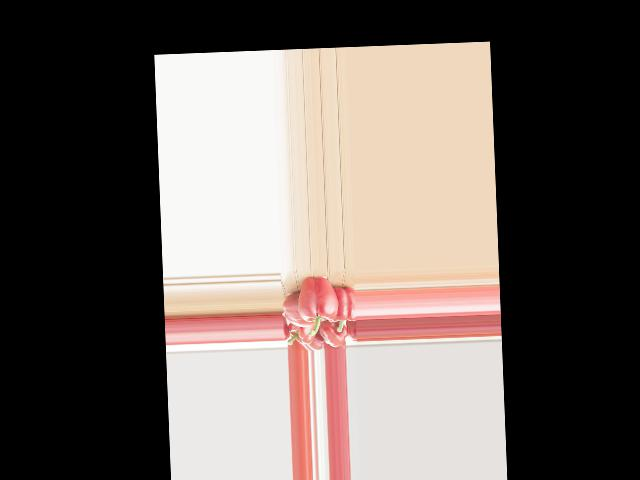bell_pepper: (285, 320, 315, 346)
